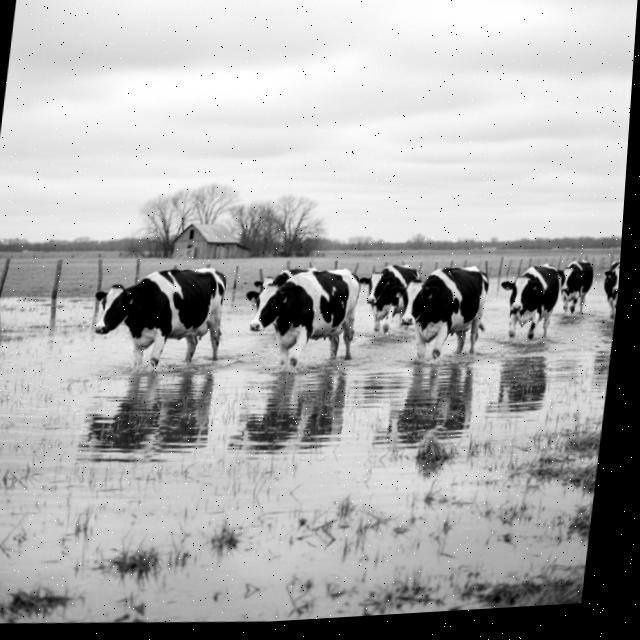cow: (81, 252, 247, 381), (232, 259, 373, 383), (381, 252, 498, 375), (351, 258, 433, 348), (491, 257, 567, 352), (550, 250, 597, 318), (251, 261, 323, 302), (594, 254, 621, 332)
